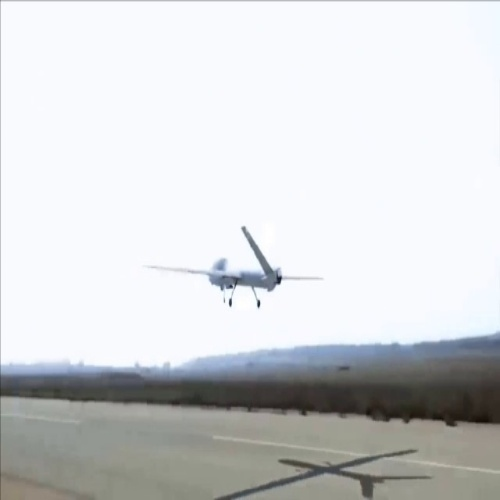uav793: (143, 222, 327, 313)
